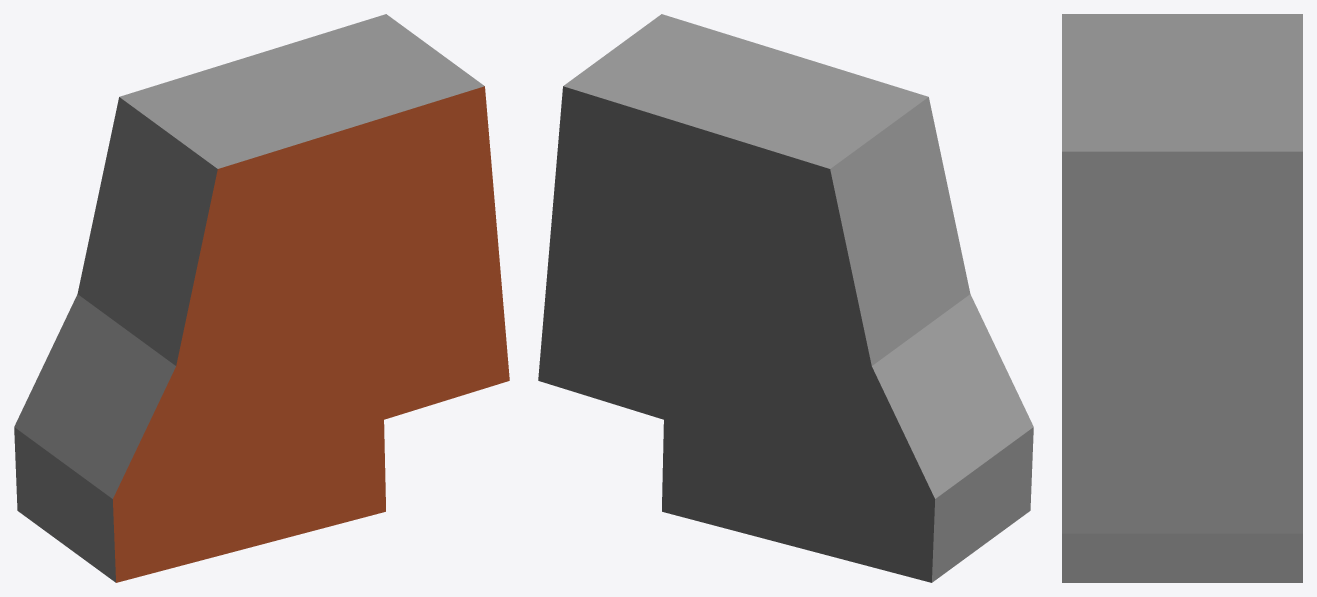
The model's file is construction_3401_assumed_A_Casa_h6m.obj.
3 views of the same model, side by side, from view 1: azimuth 30°, elevation 25°; view 2: azimuth 150°, elevation 25°; view 3: azimuth 270°, elevation 25° (orthographic). The views are drawn at different scales.
Parts seen in each view (by area): view 1: construction_3401_assumed_A_Casa; view 2: construction_3401_assumed_A_Casa; view 3: construction_3401_assumed_A_Casa.
Boxes of the visible parts, <box> form: construction_3401_assumed_A_Casa: <box>14,14,509,582</box>; construction_3401_assumed_A_Casa: <box>538,14,1033,582</box>; construction_3401_assumed_A_Casa: <box>1062,14,1302,582</box>.
Size of the model in its own units: 13.94 by 13.65 by 6.
